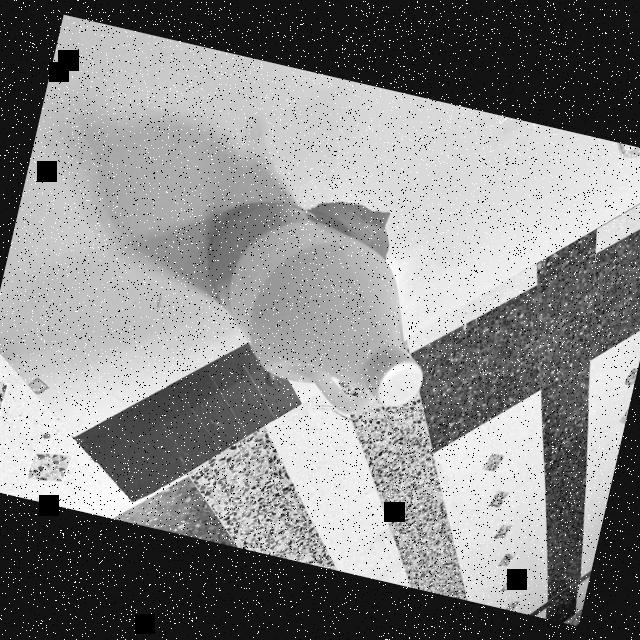chemical_plastic_gallon: (172, 178, 466, 431)
